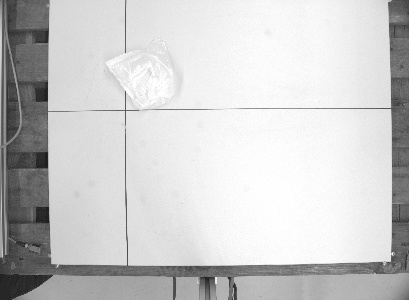t3: (102, 36, 186, 112)
